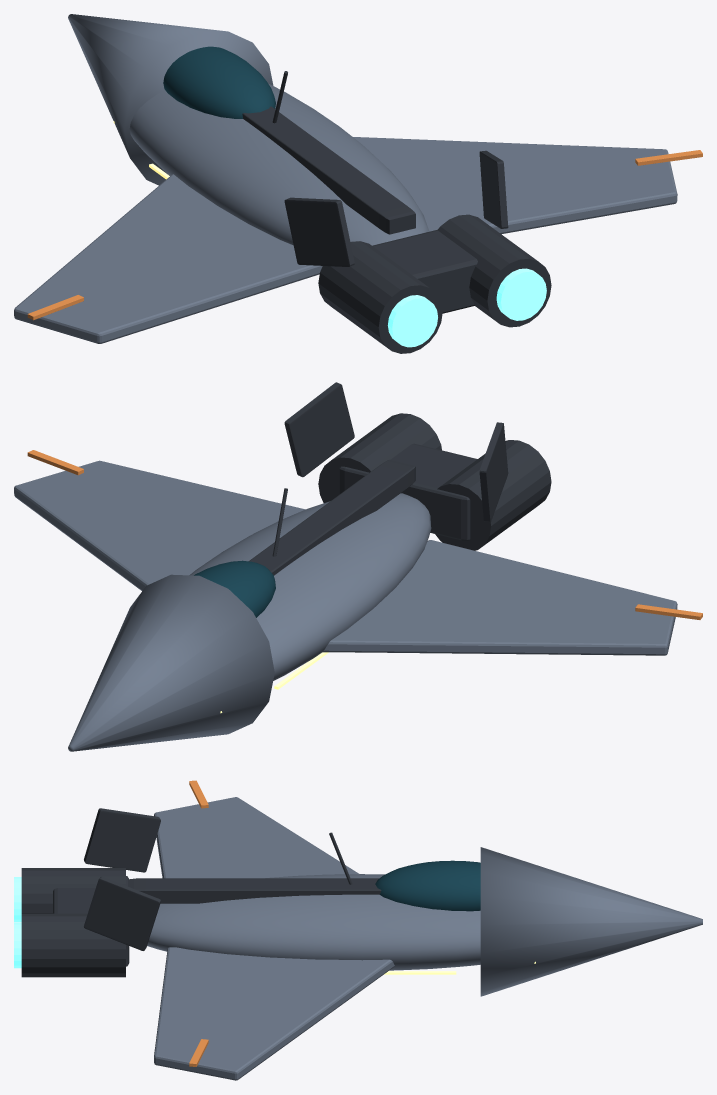
File: ship_player.glb
3 views of the same model, one above another, from view 1: azimuth 30°, elevation 25°; view 2: azimuth 150°, elevation 25°; view 3: azimuth 270°, elevation 25° (orthographic). The views are drawn at different scales.
Parts seen in each view (by area): view 1: Wings, Hull_Main, Hull_Nose, Engine_-1, Spine, Canopy, Engine_1, EngineBlock, Fin_-1, Nozzle_1, Nozzle_-1, Fin_1 (+1 smaller); view 2: Wings, Hull_Nose, Hull_Main, Engine_-1, Spine, EngineBlock, Fin_1, Engine_1, Canopy, Fin_-1; view 3: Wings, Hull_Main, Hull_Nose, Engine_1, Spine, Canopy, Fin_-1, Fin_1, Engine_-1, EngineBlock.
Boxes of the visible parts, bbox=[...] form: Wings: bbox=[14, 137, 677, 343]; Hull_Main: bbox=[129, 83, 429, 245]; Hull_Nose: bbox=[68, 14, 273, 185]; Engine_-1: bbox=[318, 241, 442, 353]; Spine: bbox=[242, 106, 415, 234]; Canopy: bbox=[163, 46, 275, 118]; Engine_1: bbox=[437, 214, 551, 327]; EngineBlock: bbox=[372, 229, 477, 313]; Fin_-1: bbox=[284, 197, 354, 266]; Nozzle_1: bbox=[496, 268, 546, 320]; Nozzle_-1: bbox=[387, 295, 437, 347]; Fin_1: bbox=[479, 150, 508, 228]; Wings: bbox=[14, 460, 677, 655]; Hull_Nose: bbox=[68, 574, 274, 751]; Hull_Main: bbox=[189, 493, 431, 680]; Engine_-1: bbox=[435, 440, 551, 550]; Spine: bbox=[249, 459, 415, 575]; EngineBlock: bbox=[339, 443, 477, 540]; Fin_1: bbox=[284, 382, 354, 477]; Engine_1: bbox=[318, 413, 441, 502]; Canopy: bbox=[194, 560, 275, 617]; Fin_-1: bbox=[479, 422, 508, 522]; Wings: bbox=[154, 797, 394, 1080]; Hull_Main: bbox=[147, 874, 480, 970]; Hull_Nose: bbox=[480, 847, 702, 996]; Engine_1: bbox=[21, 913, 125, 977]; Spine: bbox=[129, 878, 381, 903]; Canopy: bbox=[375, 860, 480, 911]; Fin_-1: bbox=[84, 808, 160, 872]; Fin_1: bbox=[84, 876, 160, 950]; Engine_-1: bbox=[21, 868, 125, 913]; EngineBlock: bbox=[53, 876, 129, 966].
Bounding box in the file's own units: 9.65 × 2.49 × 9.91.
